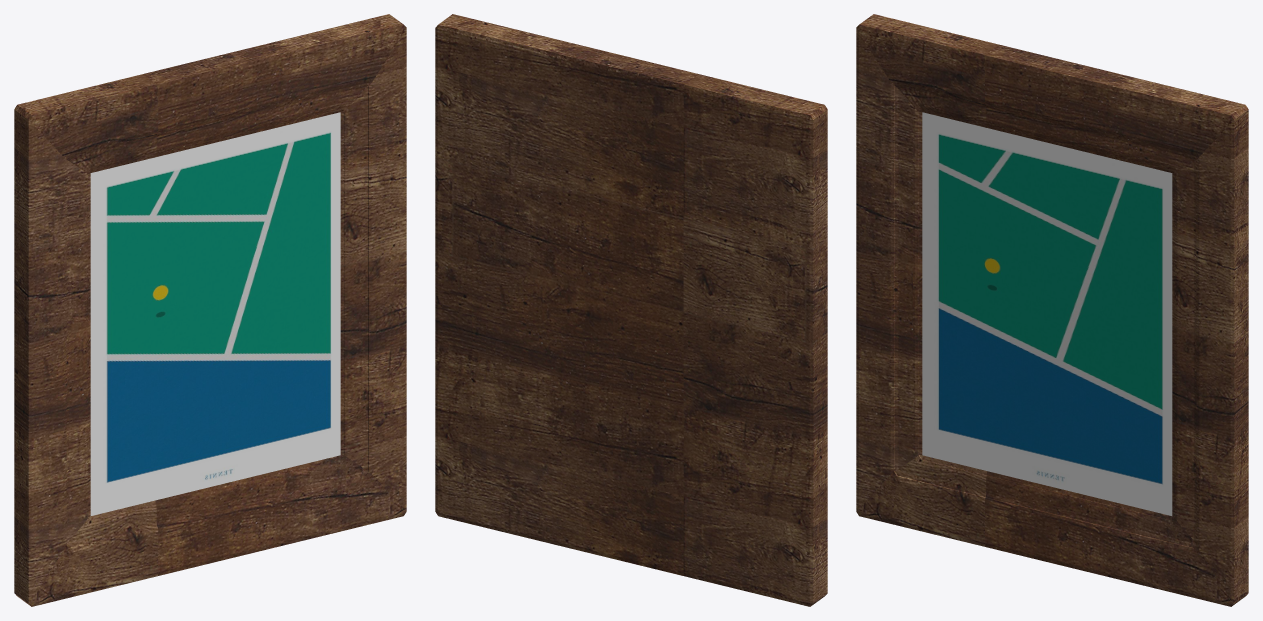
Rendered from picture_frame.glb.
3 renders of one model, left to right at view 1: azimuth 30°, elevation 25°; view 2: azimuth 150°, elevation 25°; view 3: azimuth 330°, elevation 25°, orthographic.
Parts seen in each view (by area): view 1: m_picture_frame; view 2: m_picture_frame; view 3: m_picture_frame.
Boxes of the visible parts, x1,y1,x2,y2 form: m_picture_frame: (14, 14, 406, 606); m_picture_frame: (435, 14, 827, 606); m_picture_frame: (856, 14, 1248, 606).
Bounding box in the file's own units: 9.58 × 11.9 × 0.6699.
2 materials, 2 textured.
